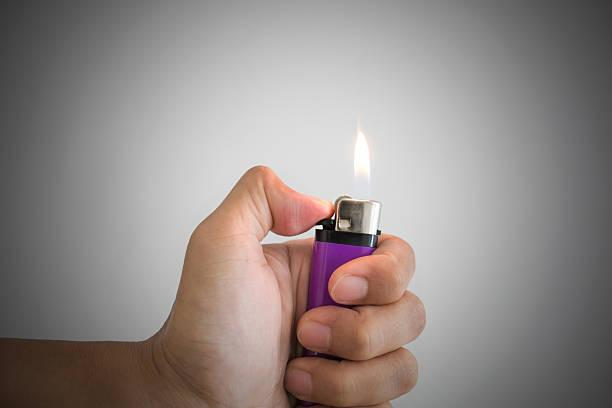Fire: (348, 126, 378, 185)
